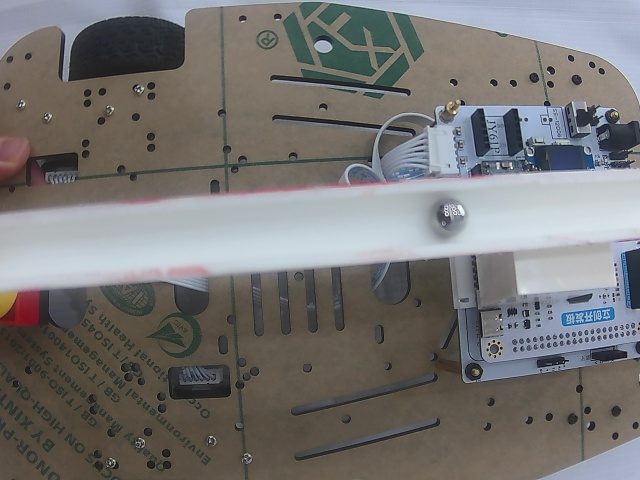steelball: (430, 198, 469, 239)
